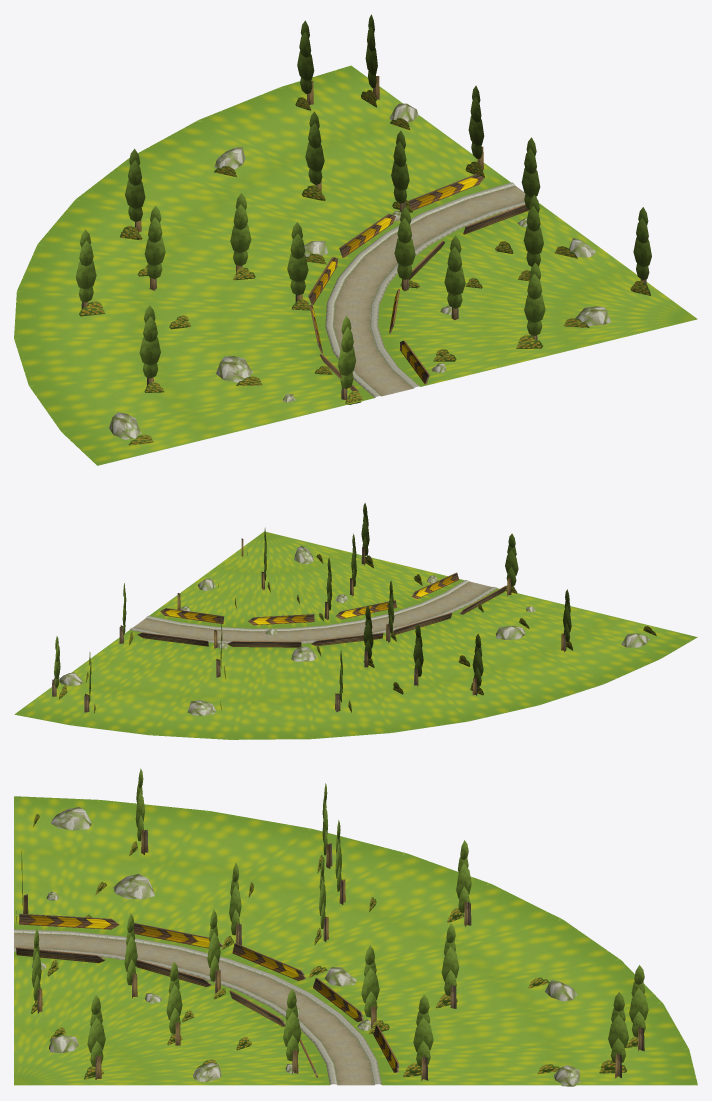
The model's file is VillageRoad01_RightCurve.FBX.
The picture shows the model from 3 angles, top to bottom: view 1: azimuth 30°, elevation 25°; view 2: azimuth 150°, elevation 25°; view 3: azimuth 270°, elevation 25°; orthographic projection. The views are drawn at different scales.
Parts seen in each view (by area): view 1: Road, Tree (×18), Fence (×2), Stone; view 2: Road, Fence (×7), Tree (×5); view 3: Road, Tree (×15), Fence (×6), Stone (×2).
Part boxes in pixels (x1=…): Road: x1=14, y1=65, x2=697, y2=465; Tree (×18): x1=76, y1=14, x2=651, y2=399; Fence (×2): x1=339, y1=174, x2=484, y2=257; Stone: x1=216, y1=356, x2=252, y2=382; Road: x1=14, y1=531, x2=697, y2=739; Fence (×7): x1=137, y1=572, x2=459, y2=647; Tree (×5): x1=363, y1=533, x2=571, y2=695; Road: x1=14, y1=796, x2=697, y2=1085; Tree (×15): x1=31, y1=768, x2=648, y2=1080; Fence (×6): x1=16, y1=913, x2=363, y2=1021; Stone (×2): x1=51, y1=807, x2=154, y2=899.
Bounding box in the file's own units: 10011 × 1406 × 10000.
